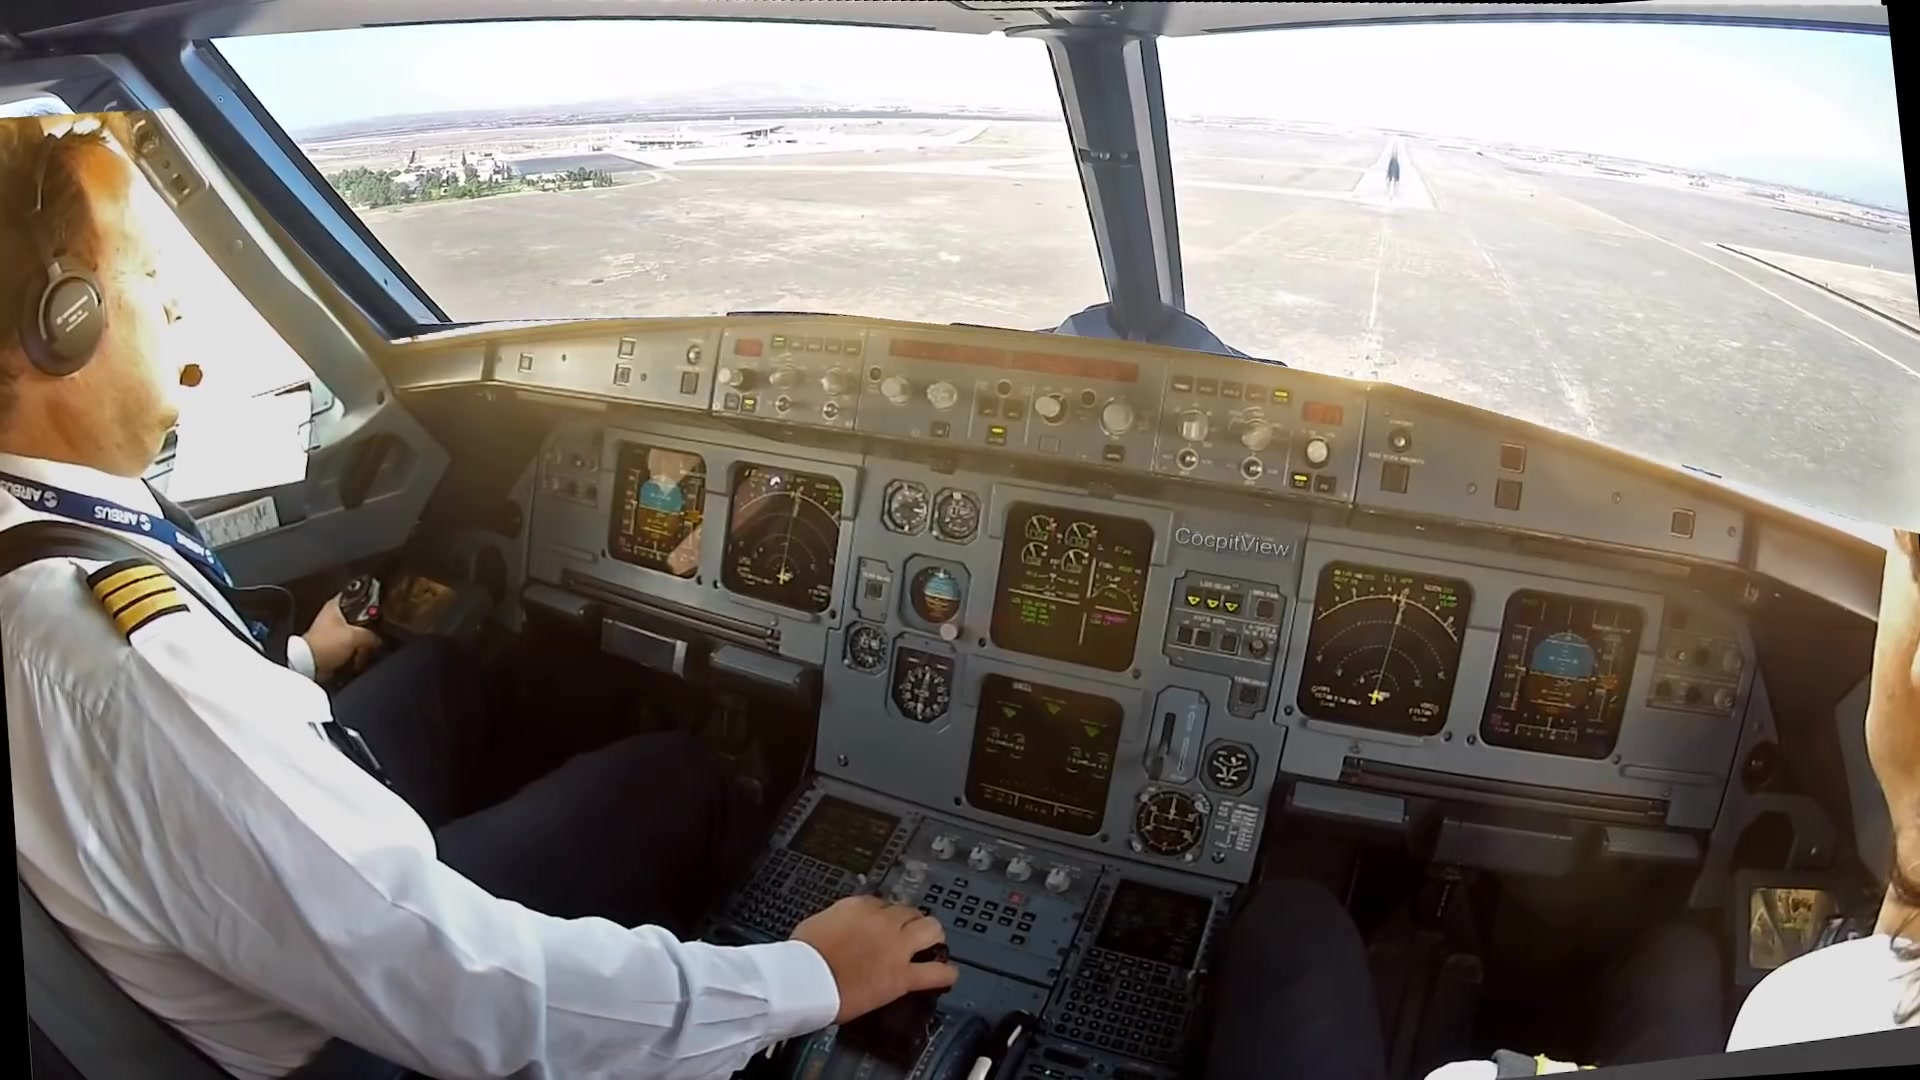runway: (1353, 138, 1433, 208)
